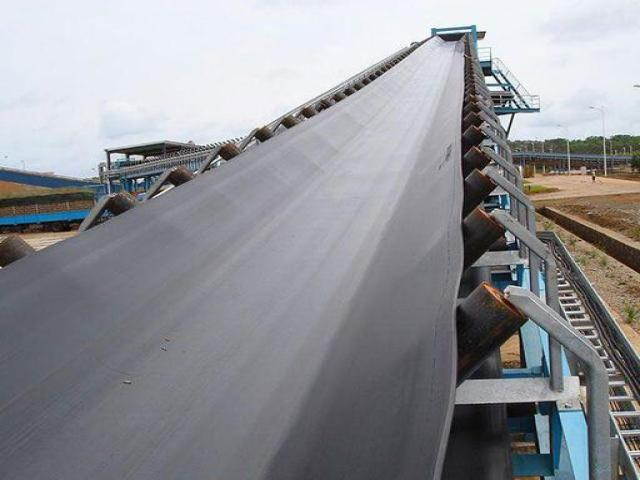conveyor: (5, 31, 499, 480)
